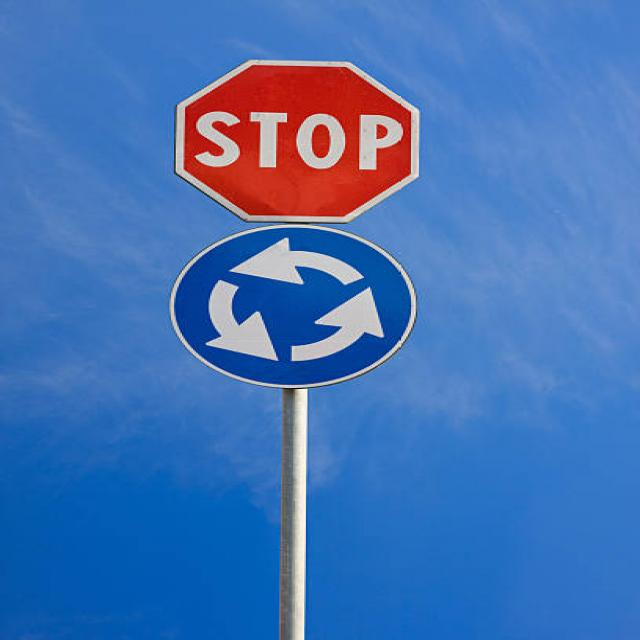round_about: (165, 222, 418, 391)
